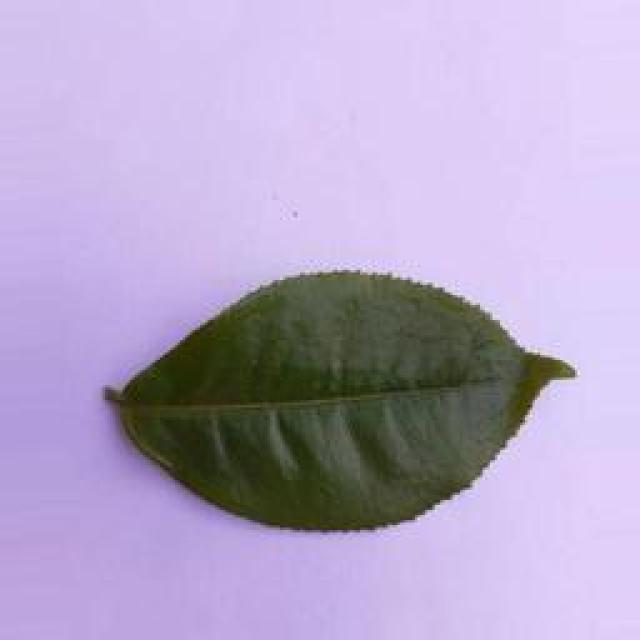Healthy: (110, 258, 574, 548)
